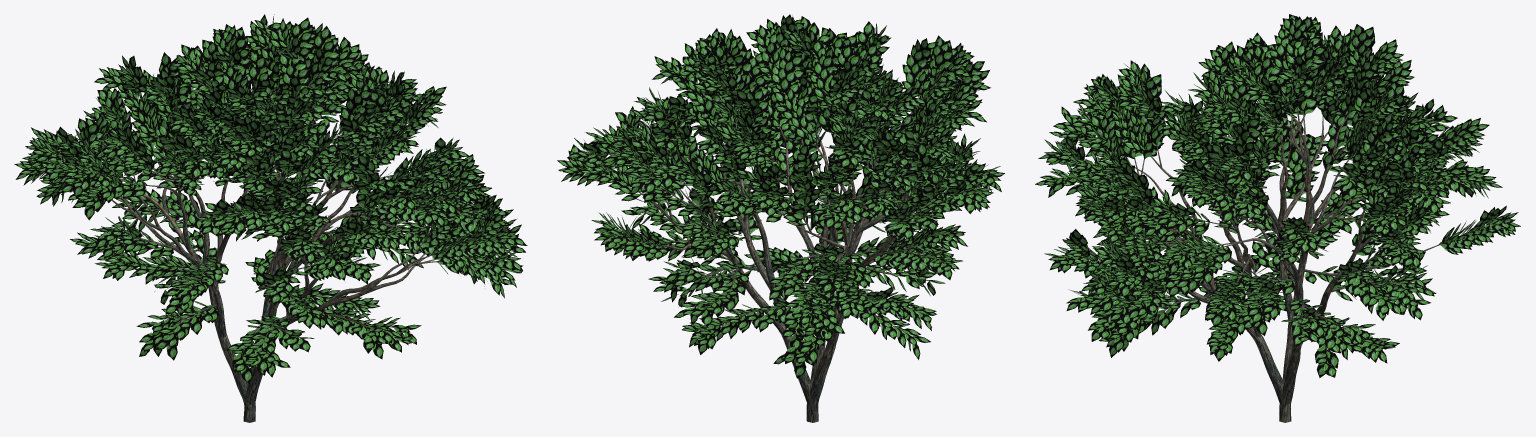
Rendered from tree5.glb.
The picture shows the model from 3 angles, left to right: view 1: azimuth 30°, elevation 25°; view 2: azimuth 150°, elevation 25°; view 3: azimuth 270°, elevation 25°; orthographic projection.
Visible parts, largest first — view 1: leaves, tree; view 2: leaves, tree; view 3: leaves, tree.
Part boxes in pixels (<box>): leaves: <box>14,14,527,383</box>; tree: <box>57,36,505,422</box>; leaves: <box>557,14,1004,378</box>; tree: <box>587,37,964,422</box>; leaves: <box>1035,14,1520,377</box>; tree: <box>1058,52,1494,422</box>.
Bounding box in the file's own units: 10.5 × 9.15 × 11.04.
2 materials, 2 textured.
